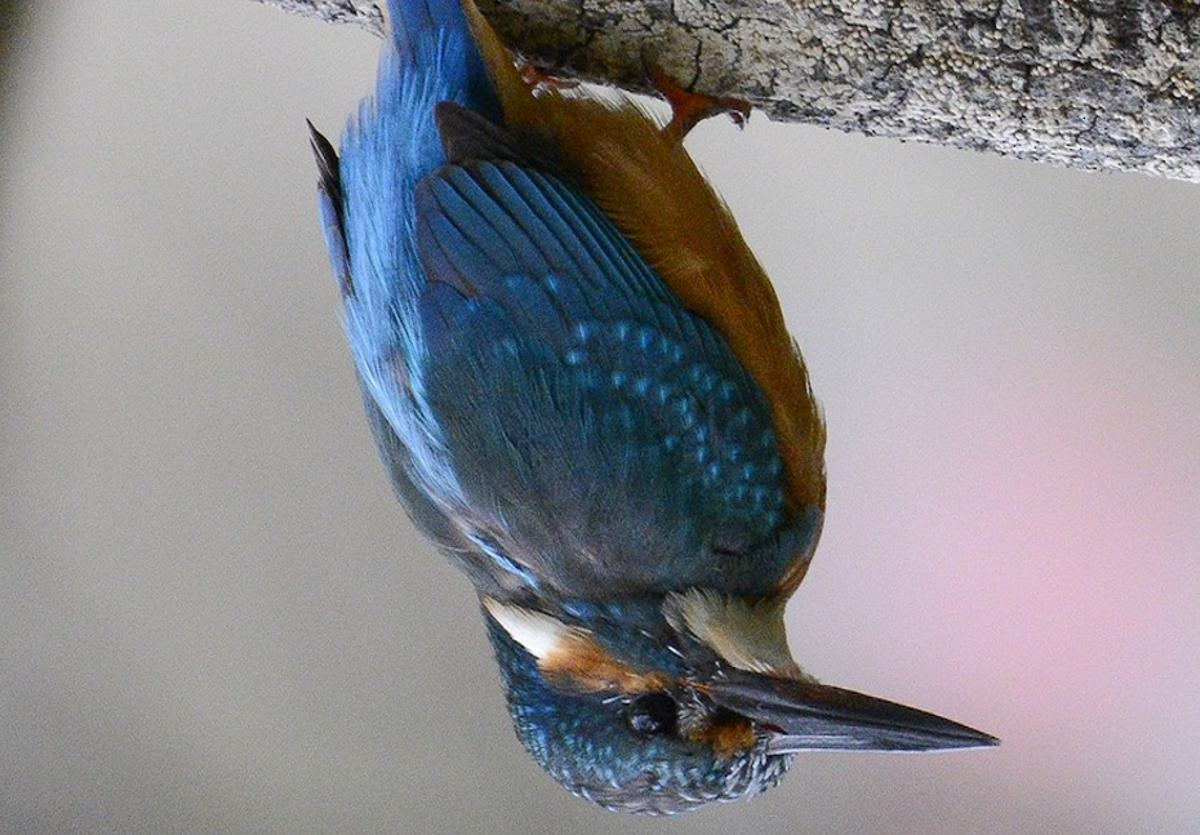kingfisher: (340, 55, 1018, 811)
